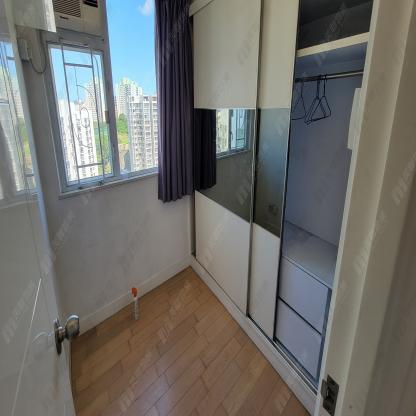AC: (51, 0, 101, 37)
Closet: (189, 0, 374, 416)
